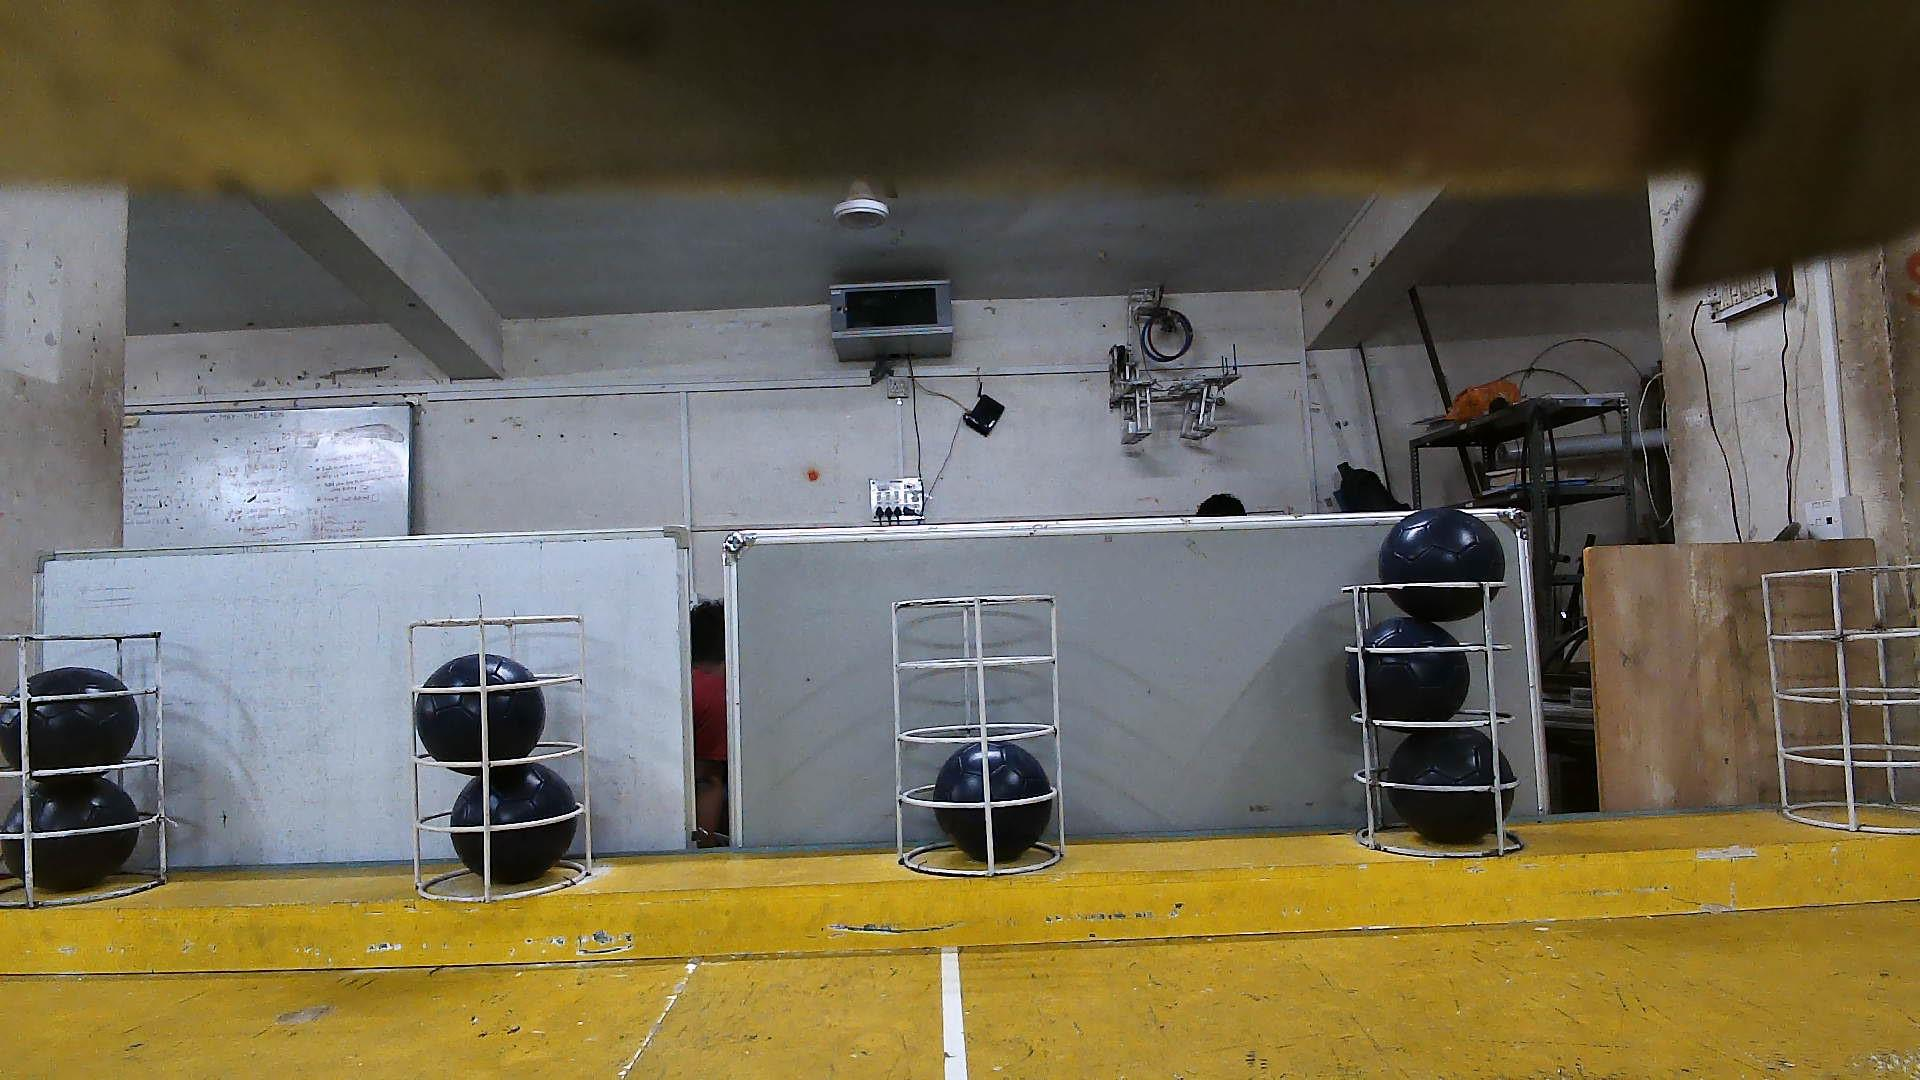dhoka: (0, 667, 138, 785), (415, 651, 546, 775), (450, 762, 579, 885), (3, 778, 140, 890), (932, 740, 1052, 865), (1387, 727, 1514, 845), (1377, 508, 1505, 622), (1345, 618, 1470, 721)
